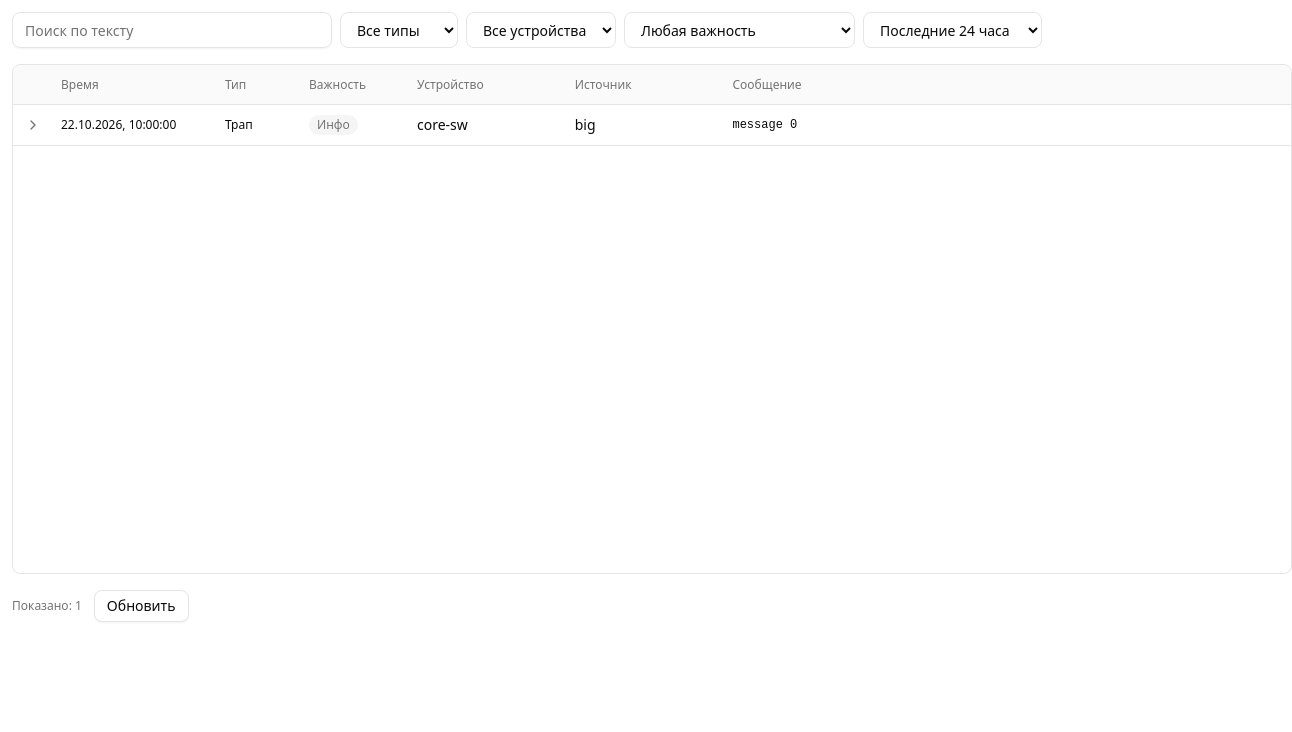
Test case: EventFeed › says when the varbinds of a trap were too large to list
The image size is (1292, 732).
Click the button named "Показать подробности": (37, 125) [25,117,49,133]
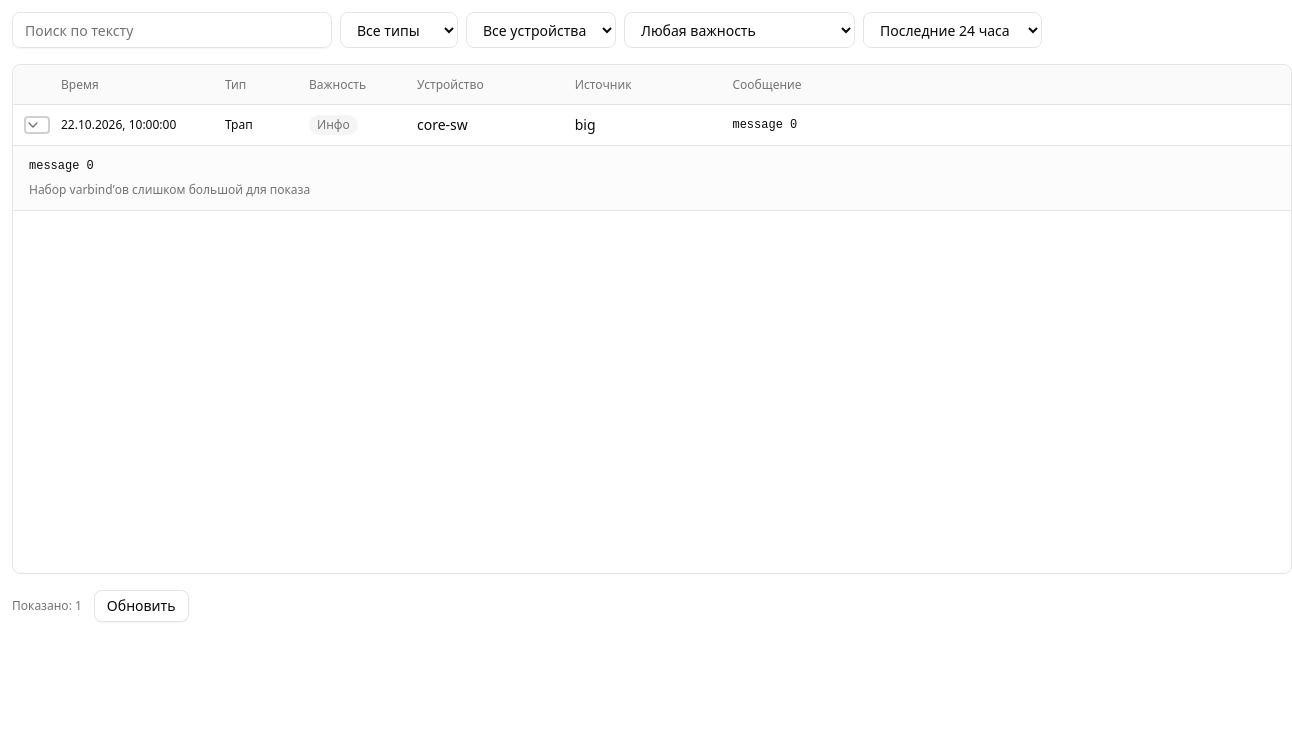
Check: the text "Набор varbind’ов слишком большой для показа" is shown, box [29,181,310,198]
